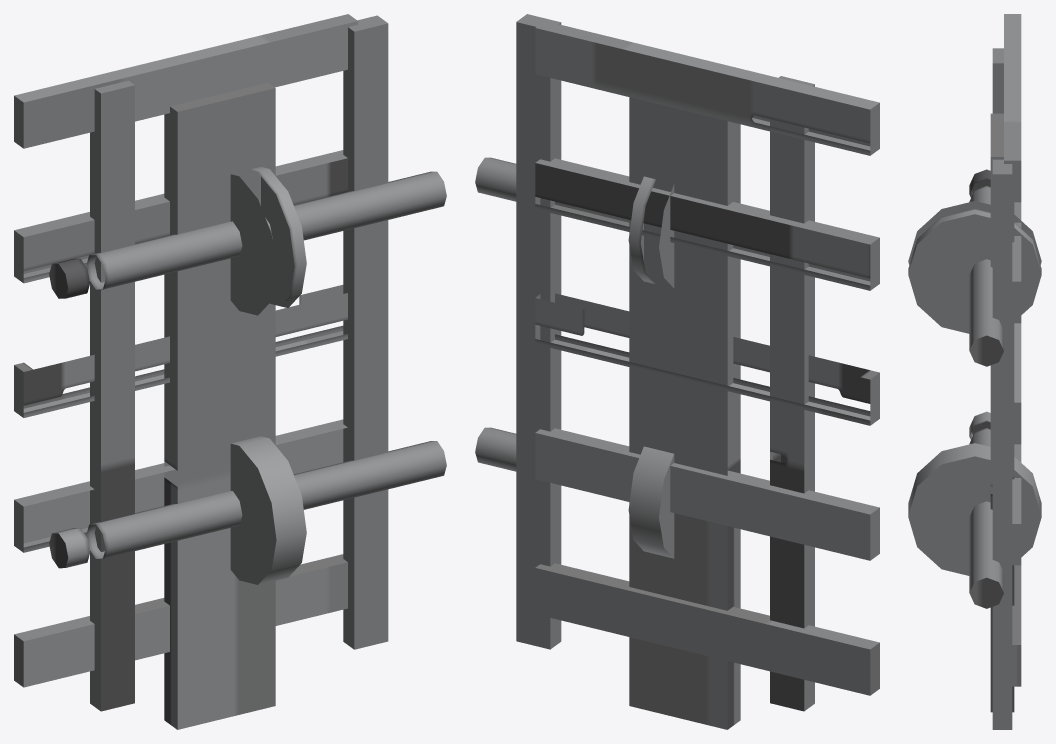
The picture shows the model from 3 angles, left to right: view 1: azimuth 30°, elevation 25°; view 2: azimuth 150°, elevation 25°; view 3: azimuth 270°, elevation 25°; orthographic projection. The views are drawn at different scales.
Bounding box in the file's own units: 0.6295 × 0.9794 × 0.2006.
